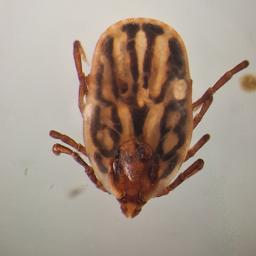Rhipicephalus sanguineus: (50, 17, 248, 219)
